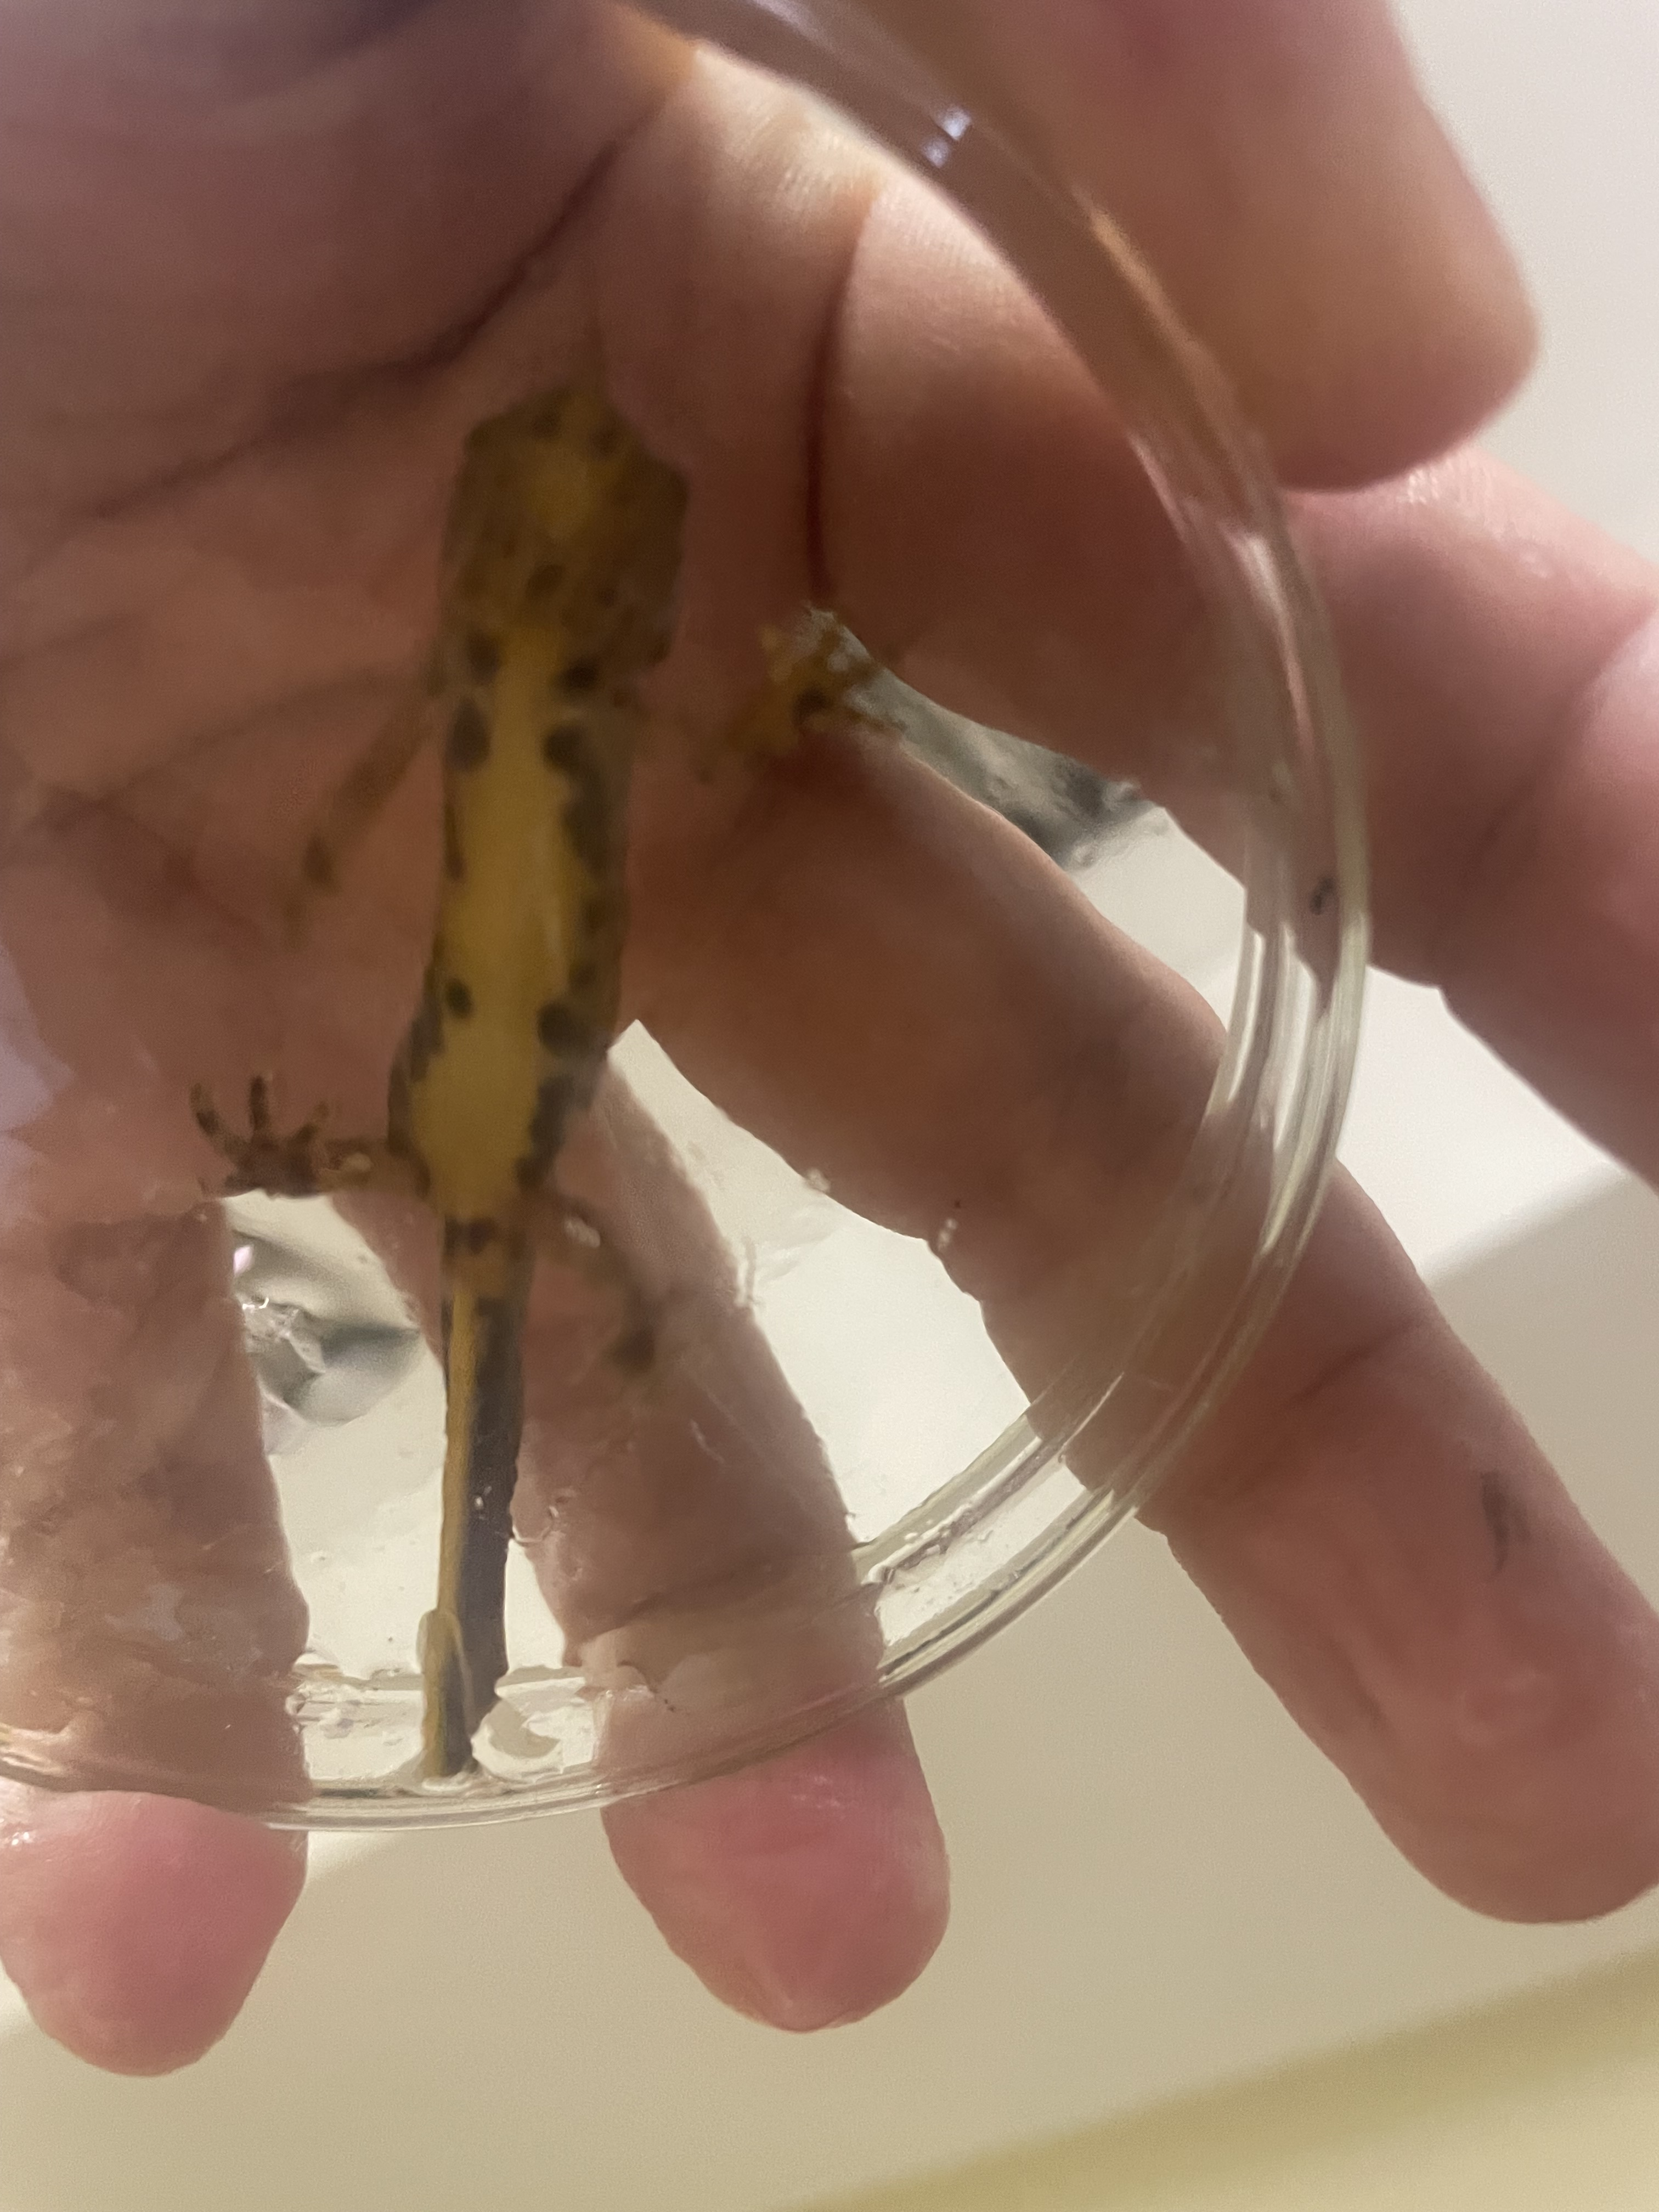Karelin_newt: (385, 725, 633, 1179)
